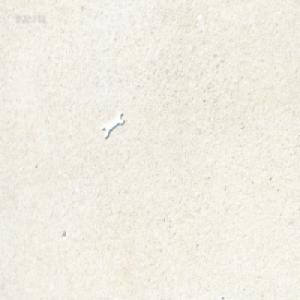Wrench: (101, 109, 123, 137)
